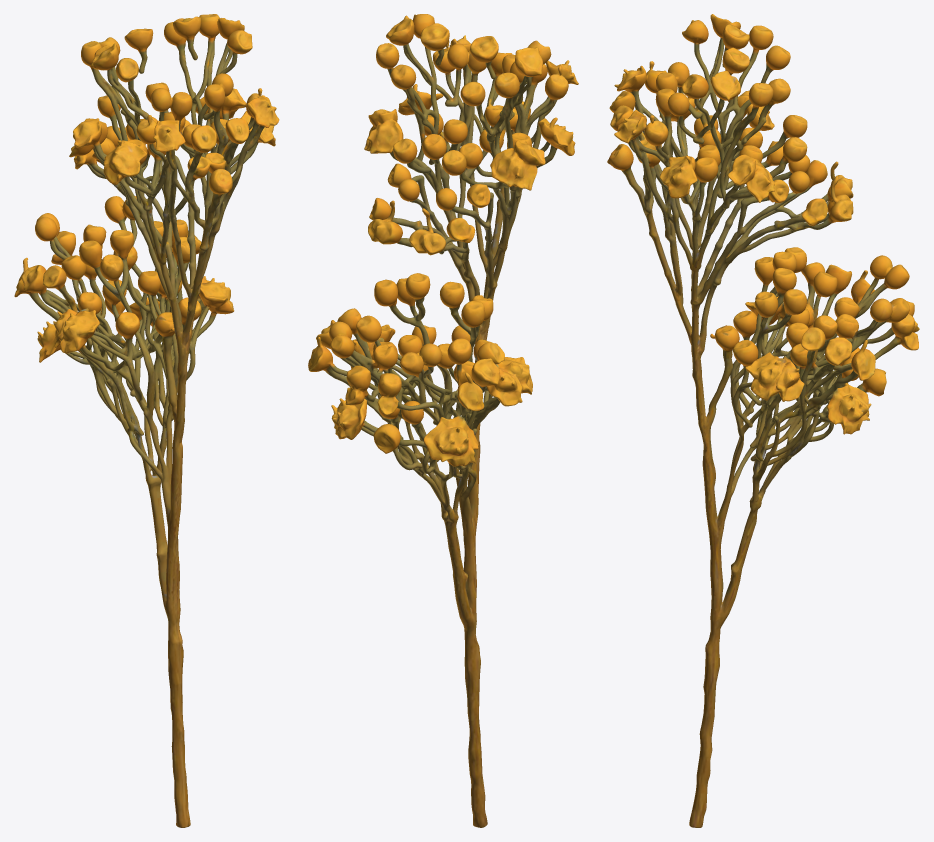
File: YellowFlower.glb
3 renders of one model, left to right at view 1: azimuth 30°, elevation 25°; view 2: azimuth 150°, elevation 25°; view 3: azimuth 270°, elevation 25°, orthographic. The views are drawn at different scales.
Parts seen in each view (by area): view 1: tripo_node_19216e35-cf6a-4262-a08b-78f0214b0cca; view 2: tripo_node_19216e35-cf6a-4262-a08b-78f0214b0cca; view 3: tripo_node_19216e35-cf6a-4262-a08b-78f0214b0cca.
Part boxes in pixels (x1,y1,x2,y2): tripo_node_19216e35-cf6a-4262-a08b-78f0214b0cca: (14,14,279,827); tripo_node_19216e35-cf6a-4262-a08b-78f0214b0cca: (308,14,578,827); tripo_node_19216e35-cf6a-4262-a08b-78f0214b0cca: (607,14,919,827).
Size of the model in its own units: 0.2341 by 0.9997 by 0.3596.
1 material, 1 textured.
